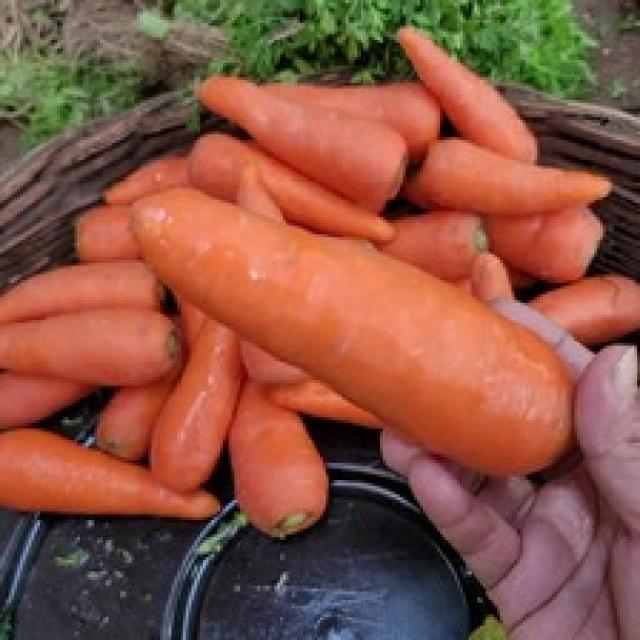Fresh_Carrot: (135, 194, 608, 477), (202, 77, 411, 186), (0, 429, 227, 517), (396, 30, 541, 158), (0, 315, 176, 385)
